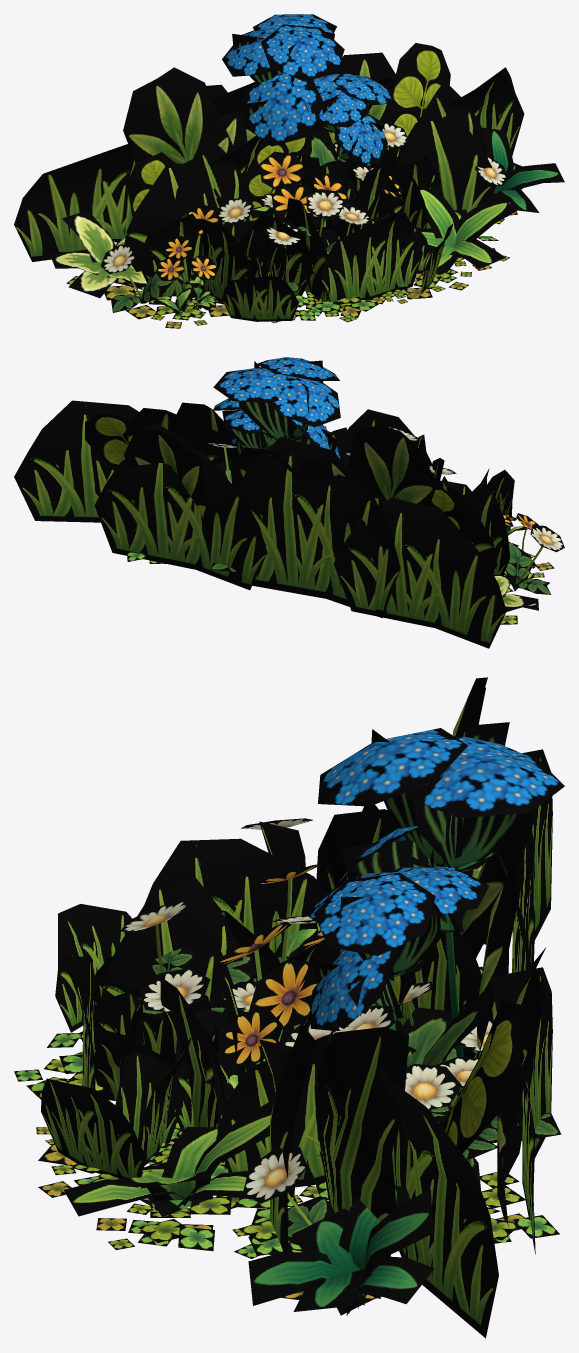
Rendered from 无标题.fbx.
3 renders of one model, top to bottom at view 1: azimuth 30°, elevation 25°; view 2: azimuth 150°, elevation 25°; view 3: azimuth 270°, elevation 25°, orthographic. The views are drawn at different scales.
Visible parts, largest first — view 1: polySurface510_Plant_0; view 2: polySurface510_Plant_0; view 3: polySurface510_Plant_0.
Part boxes in pixels (x1,y1,x2,y2): polySurface510_Plant_0: [14, 14, 564, 328]; polySurface510_Plant_0: [14, 357, 564, 648]; polySurface510_Plant_0: [14, 677, 564, 1338].
Bounding box in the file's own units: 7025 × 2819 × 3539.
